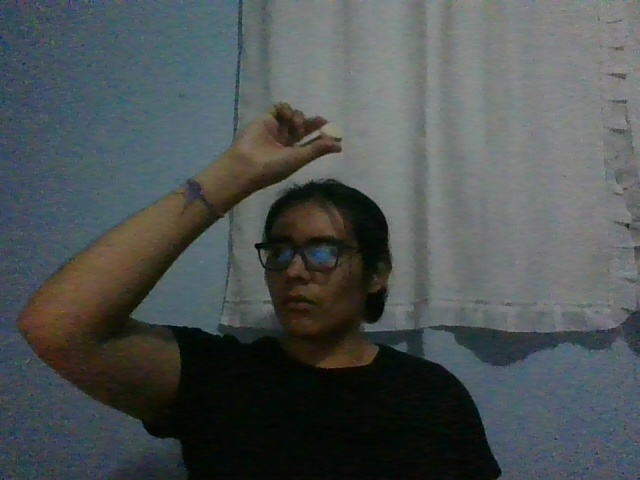goma: (321, 125, 342, 142)
